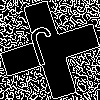J: (25, 25, 63, 77)
